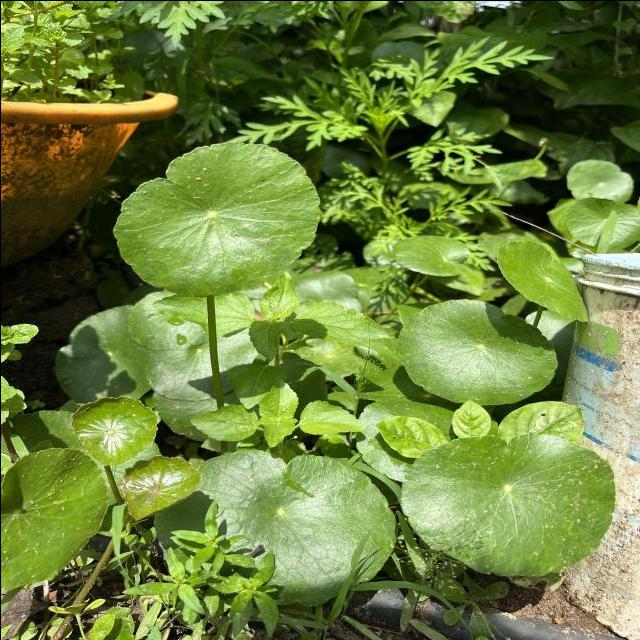Bacopa monnieri: (110, 138, 322, 300), (396, 430, 617, 577), (394, 294, 560, 406), (0, 444, 110, 592), (493, 238, 590, 324), (69, 392, 162, 467), (121, 452, 203, 520)
